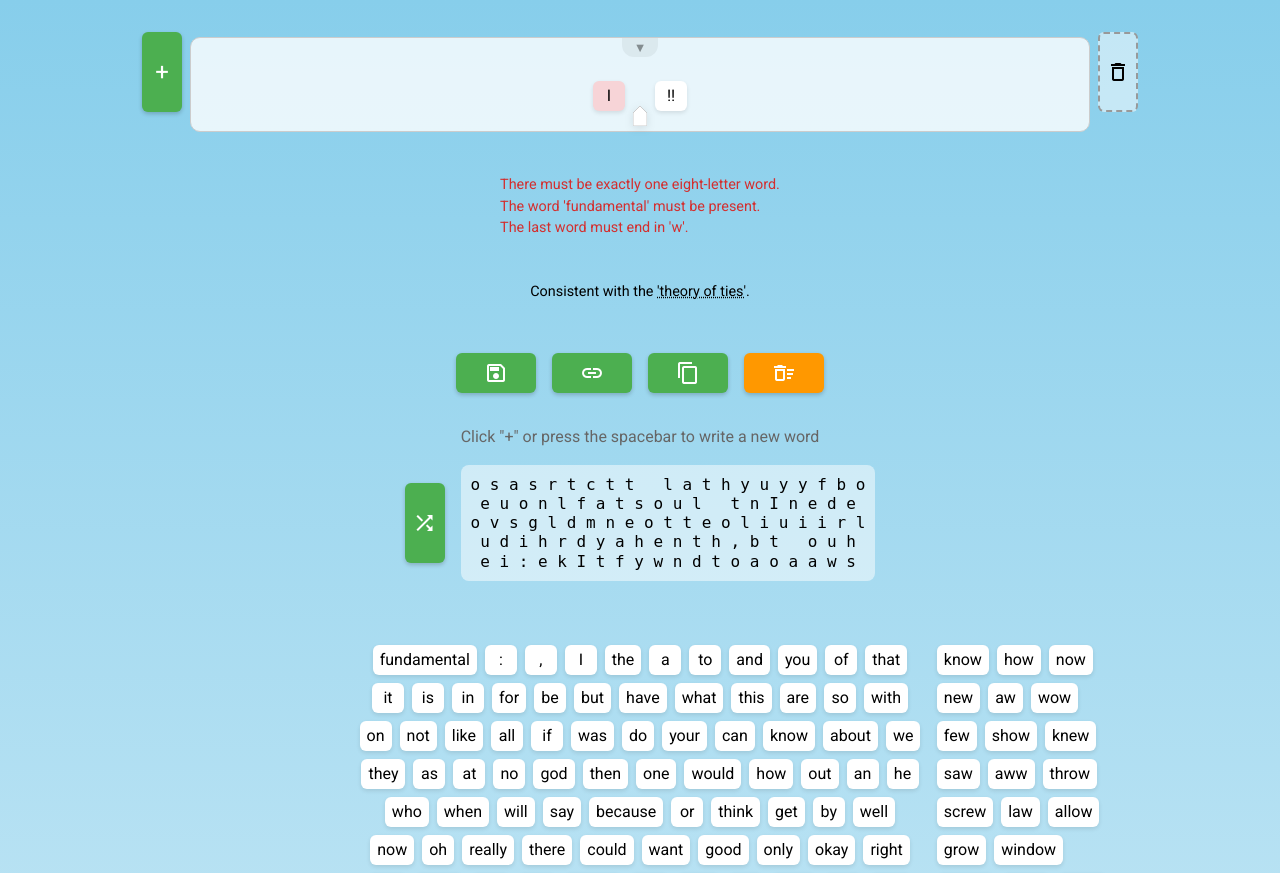
Test: App Interaction › steals letters from existing words if pool is empty
Expected: the button "fundamental" is shown, [373, 645, 477, 675]
# The letter 'm' is not in the initial pool, so it must be stolen.
Click the button "+" at (162, 72), box [142, 32, 182, 112]
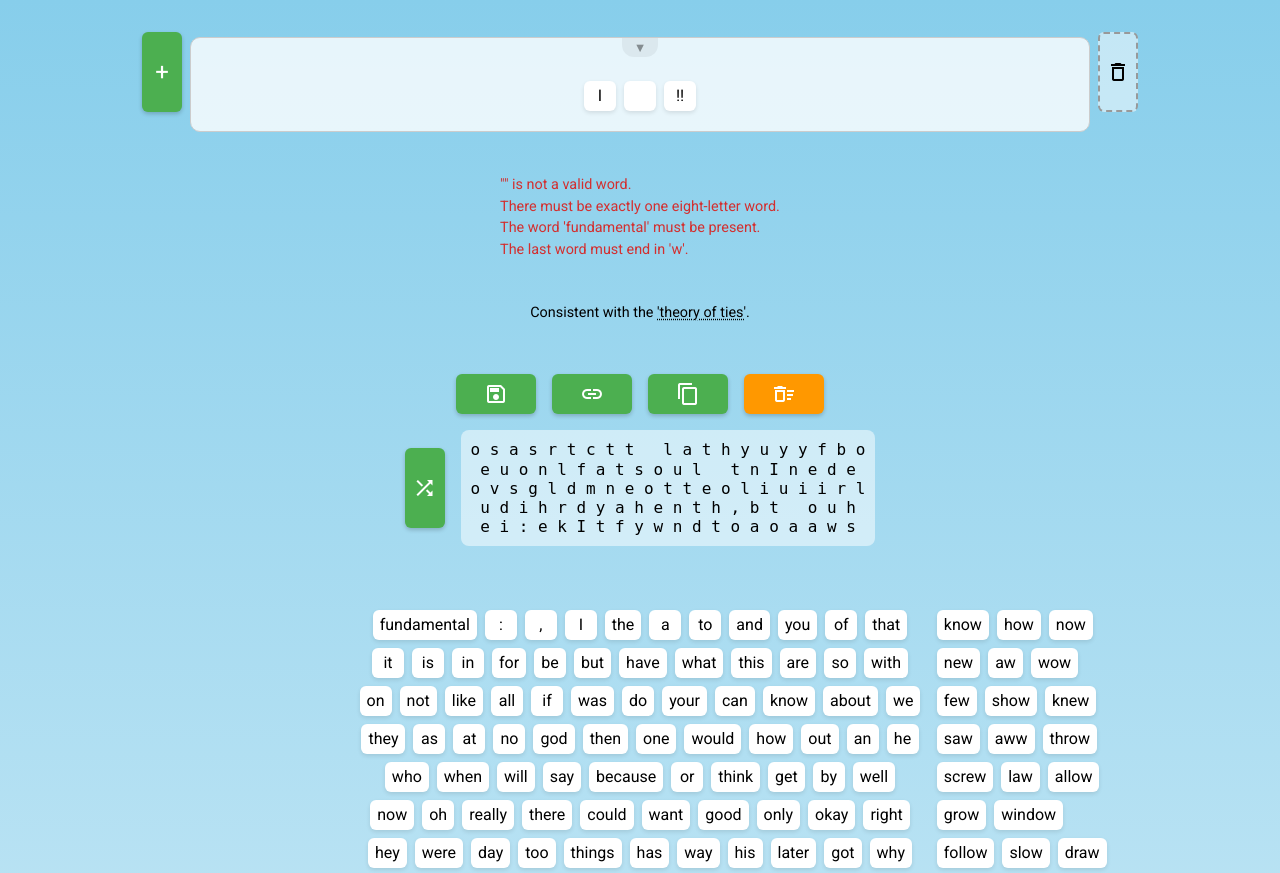
Type keys "m"
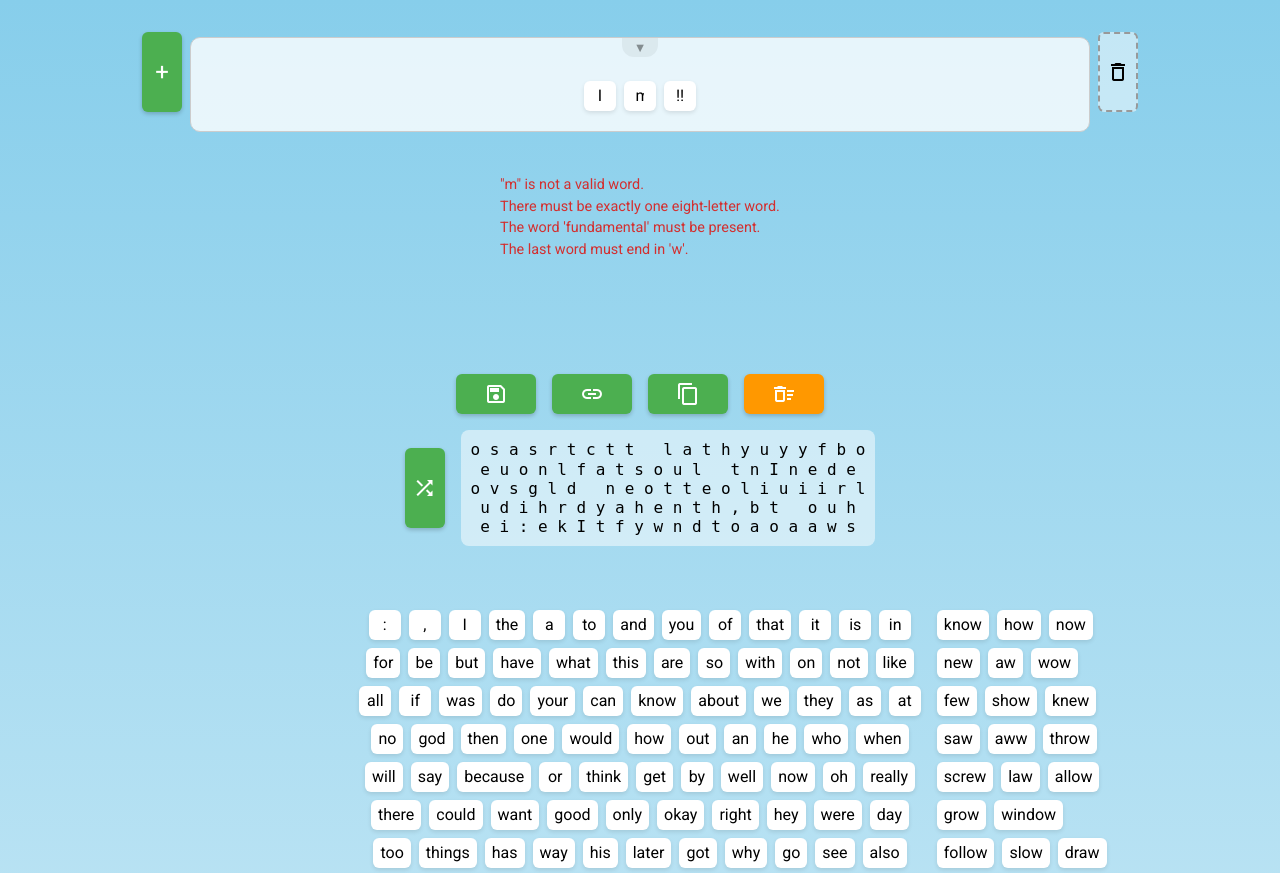
Expected: the field holds "m", [636, 86, 644, 105]
